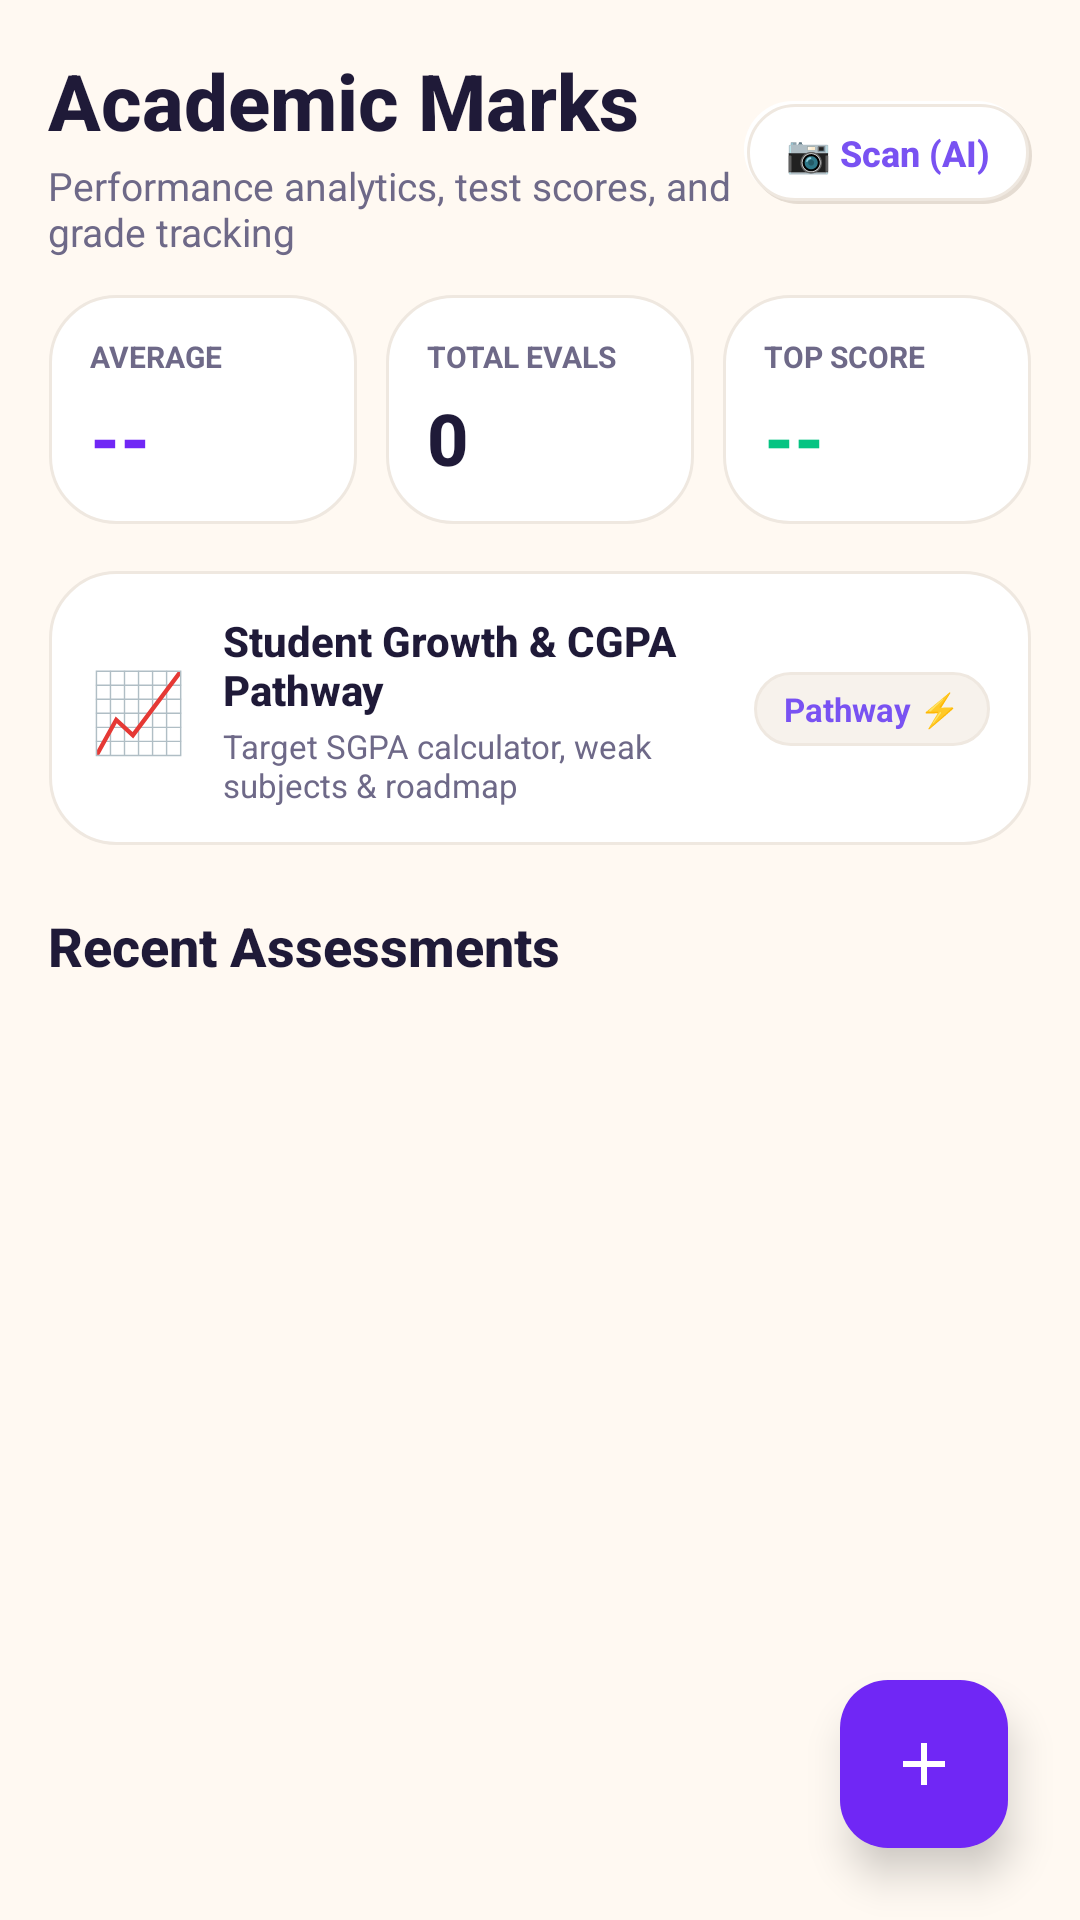

Icon click points for this 1080w x 1920h phone screenshot, format (x,y):
Add Assessment: (924,1764)
